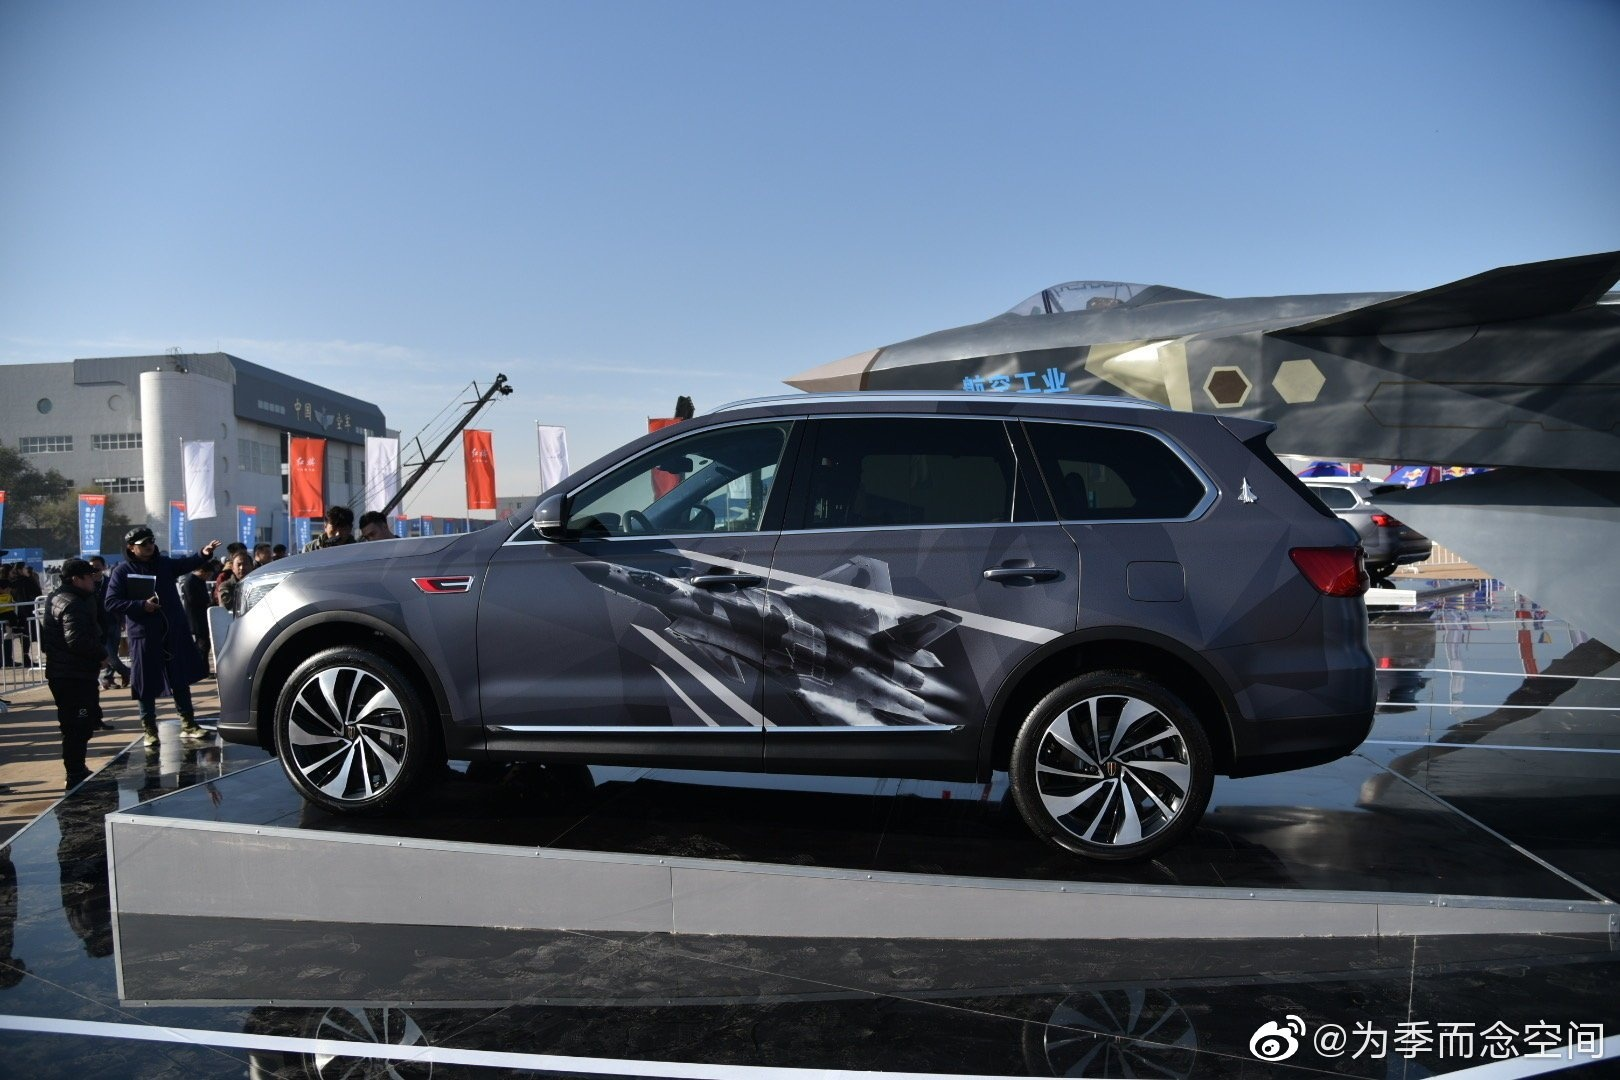J20: (780, 248, 1620, 466), (570, 553, 963, 724)
